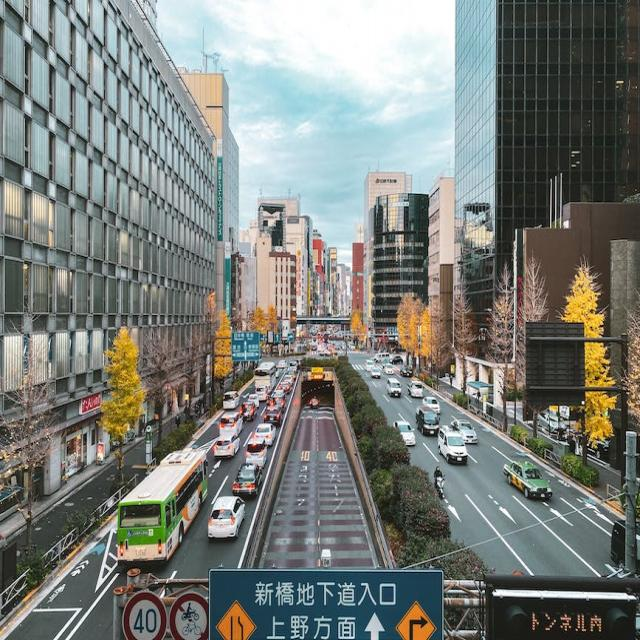speed limit 40: (122, 592, 167, 640)
